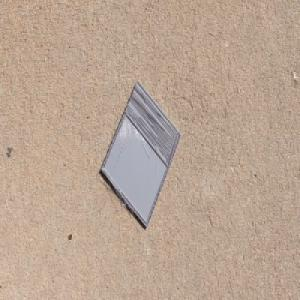PlasticPart: (98, 79, 182, 231)
